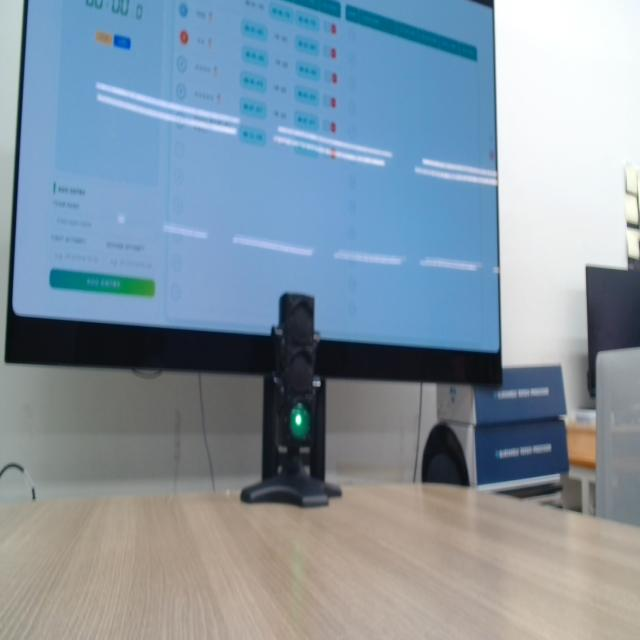green_light: (290, 404, 311, 441)
